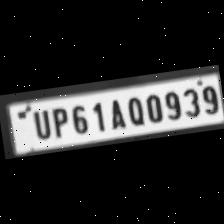0: (141, 91, 164, 124)
1: (86, 99, 108, 134)
3: (178, 84, 202, 119)
6: (66, 100, 91, 136)
9: (197, 82, 221, 116), (160, 88, 182, 122)
A: (102, 96, 127, 132)
P: (48, 104, 70, 138)
Q: (122, 93, 146, 126)
U: (28, 106, 52, 142)
